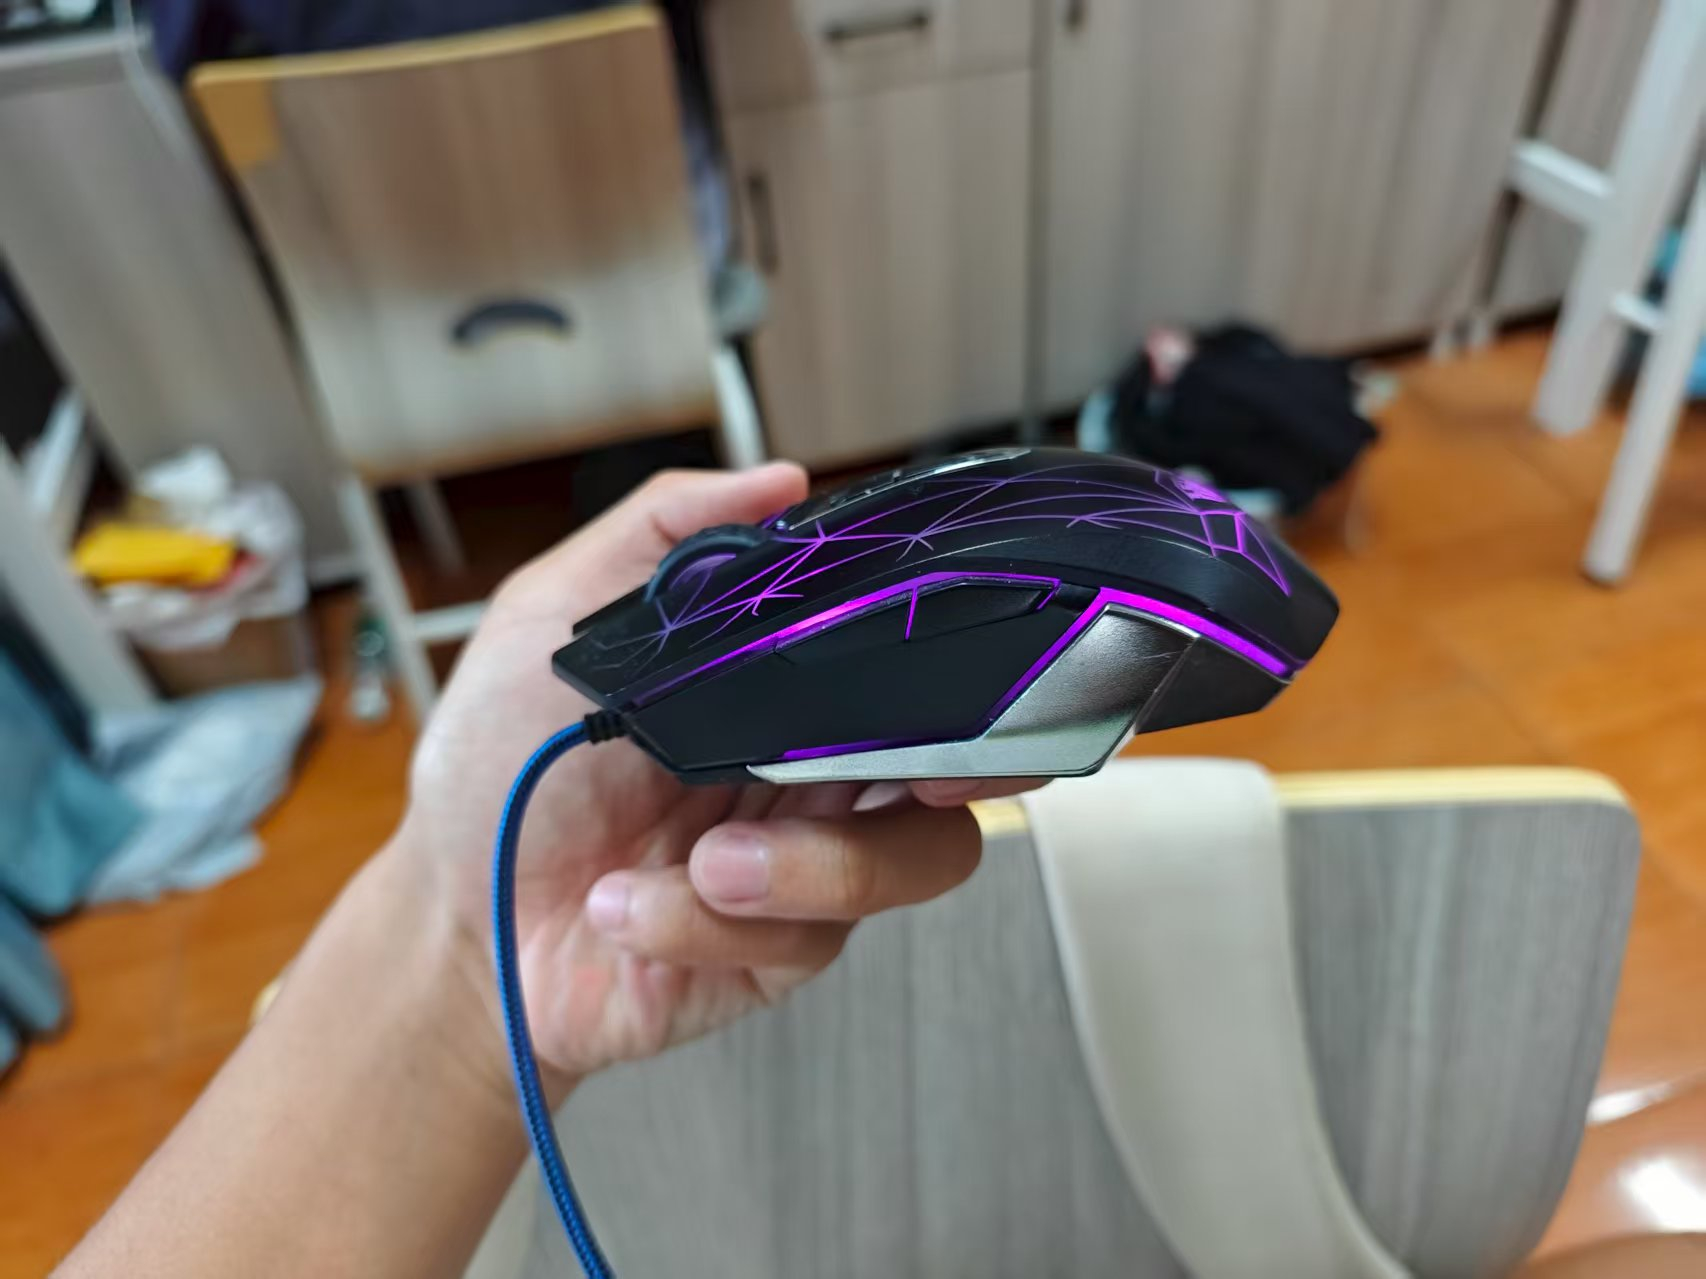mouse: (455, 431, 1349, 836)
